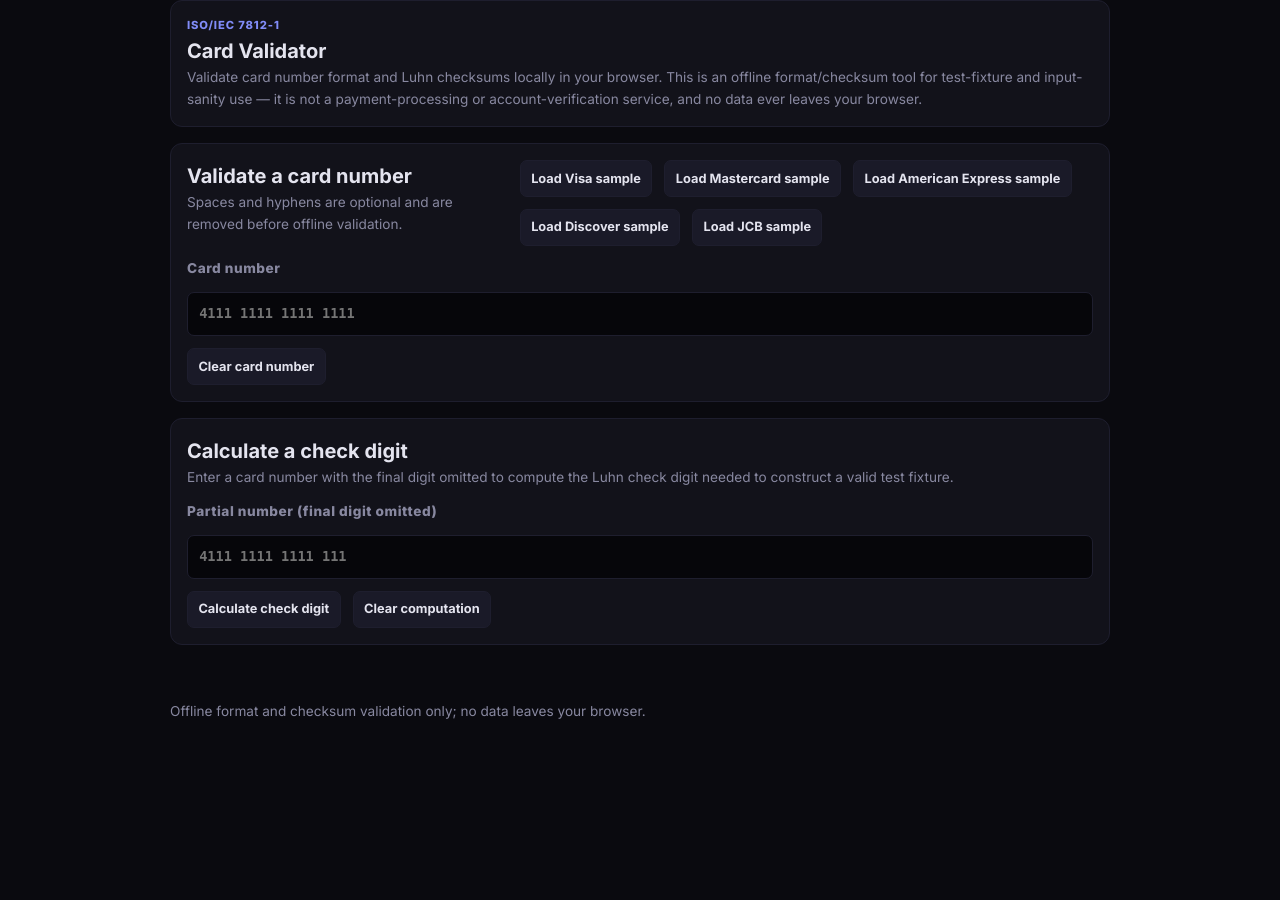
Test: CardTool › loads a Visa sample and displays formatted, parsed validation results
Click the button "Load Visa sample" at (586, 179), box x1=520 y1=160 x2=652 y2=197
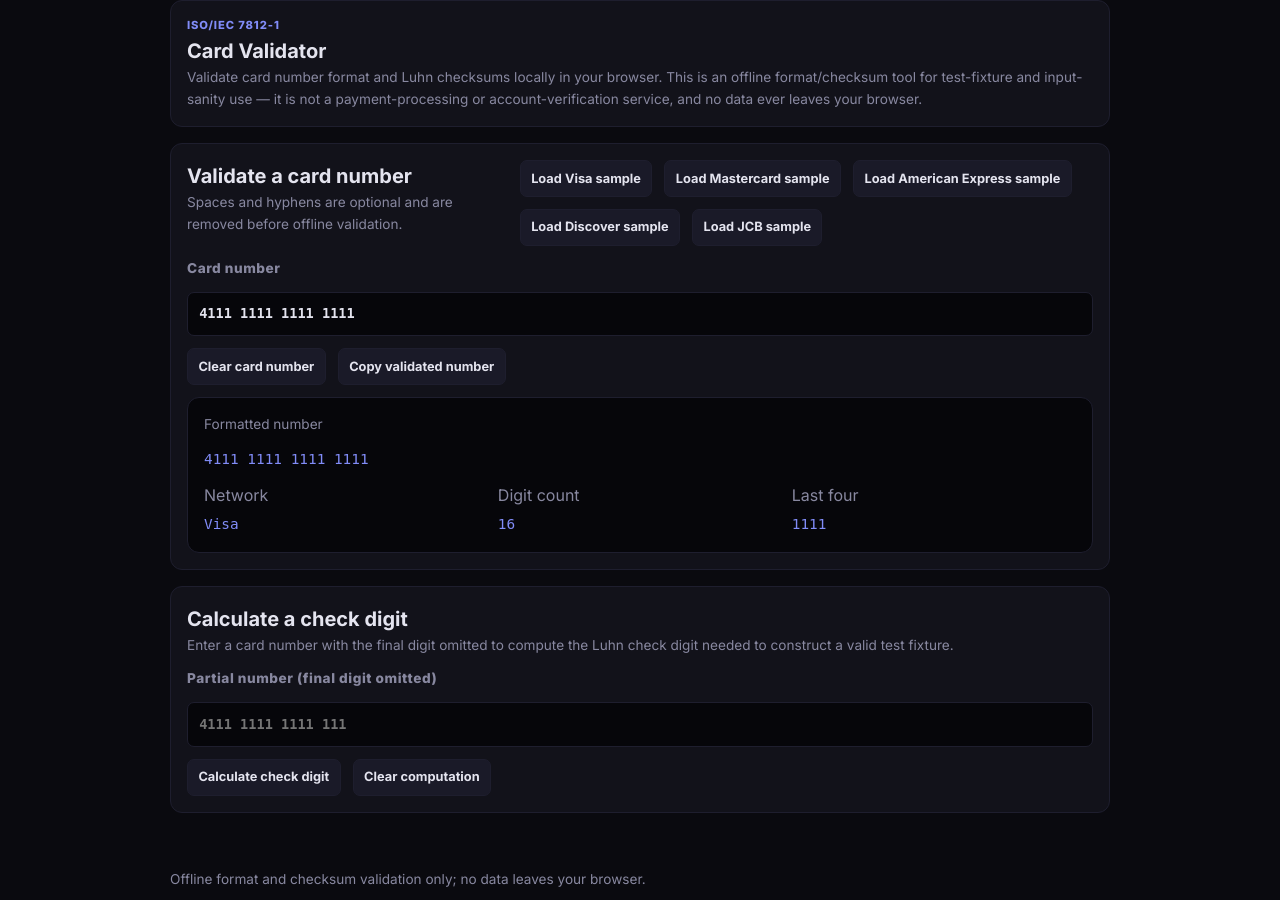
Result: the text "4111 1111 1111 1111" is shown at x1=204 y1=451 x2=369 y2=467
Result: the text "Visa" is shown at x1=204 y1=516 x2=239 y2=532
Result: the text "16" is shown at x1=498 y1=516 x2=515 y2=532
